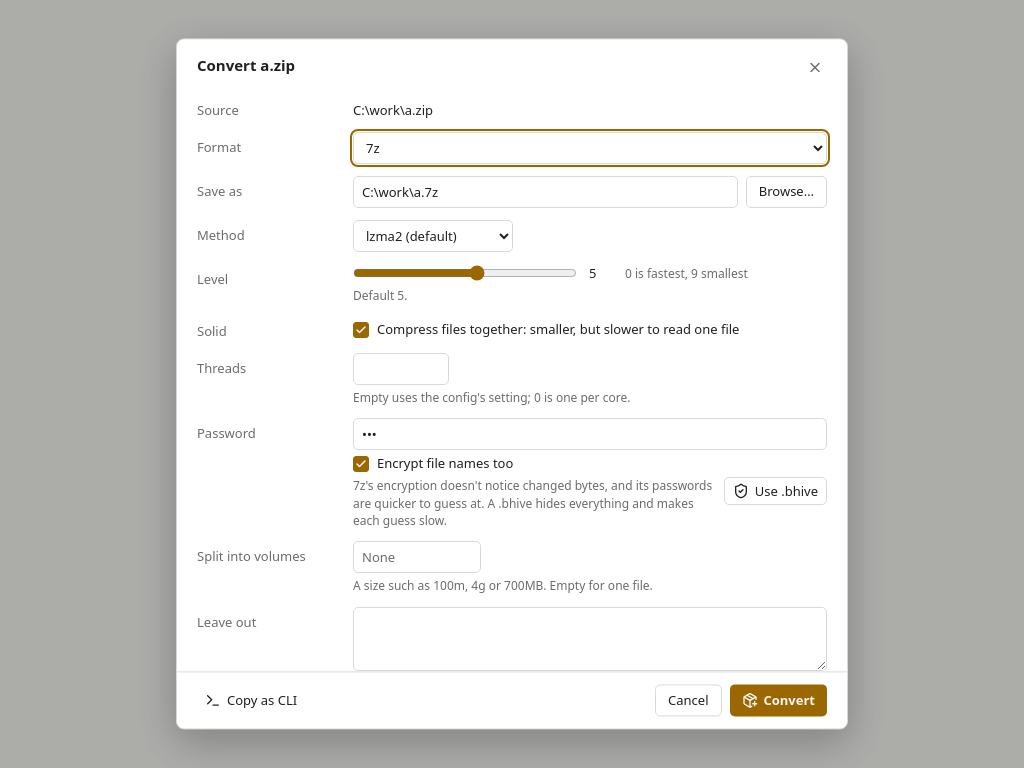
the create dialog's Protection section (docs/M14.md §8) › converts into an encrypted .bhive with `new_password` and shows its recovery key
Select "bhive" in the dropdown labelled "Format" at (590, 148), box [353,132,827,164]
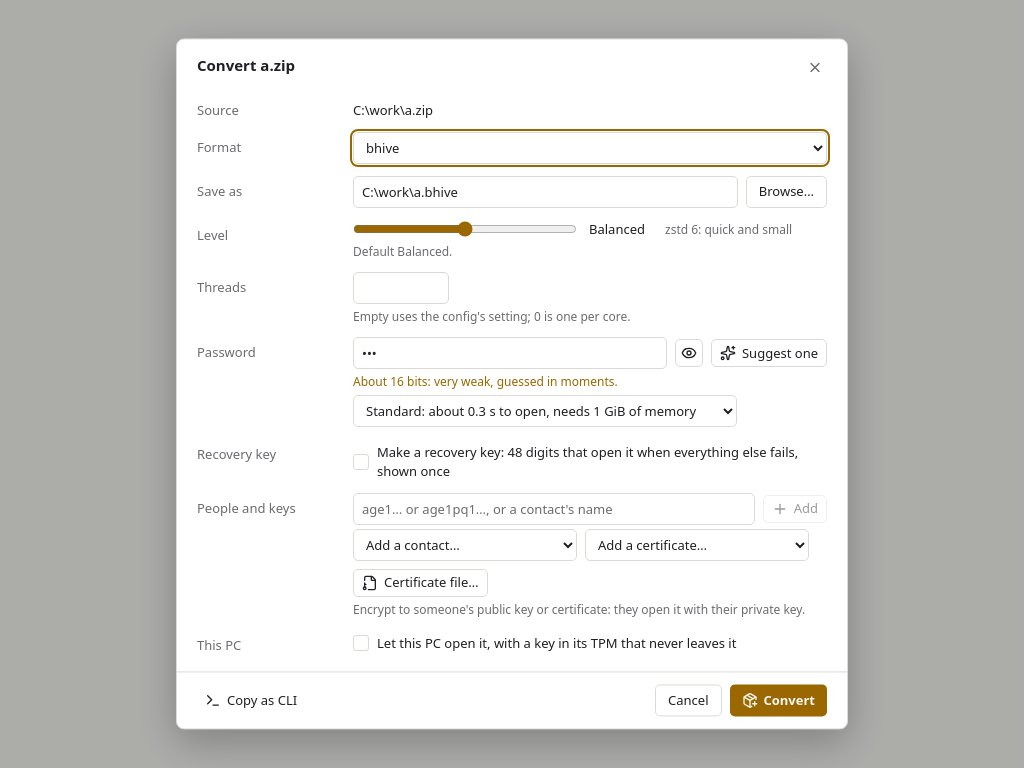
Clear the password field labelled "Password" at (510, 354), box [353,338,667,370]
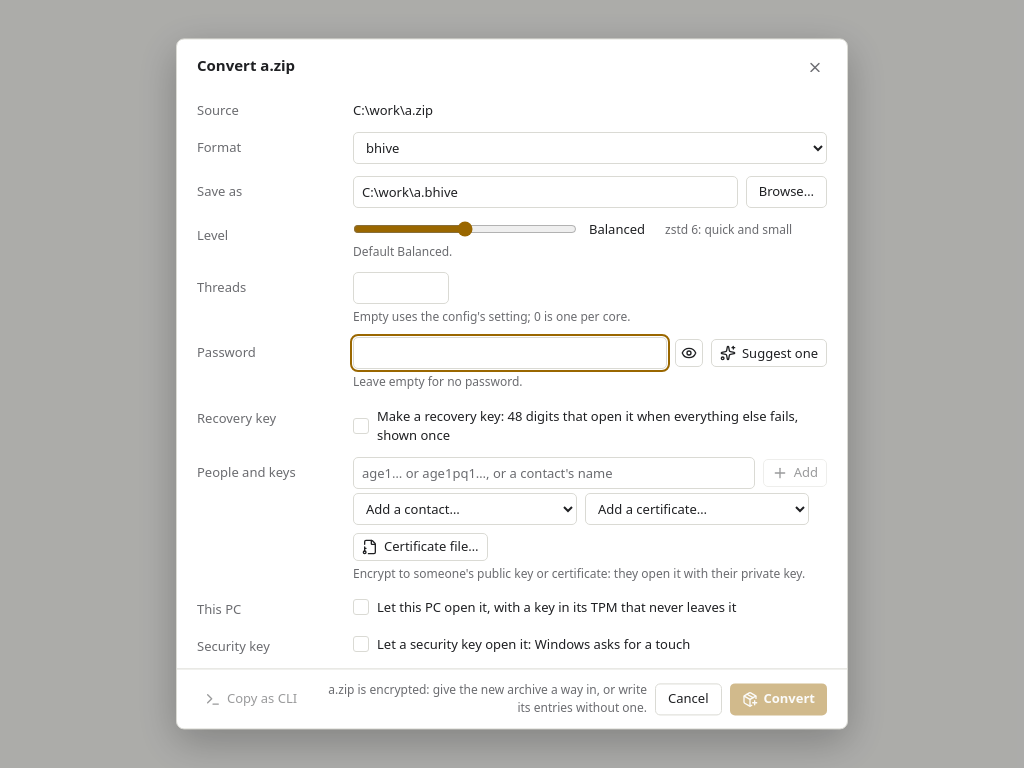
Expected: the button "Convert" is disabled, [730,683,827,715]
Click the text "Make a recovery key" at (602, 426), box [377,407,827,445]
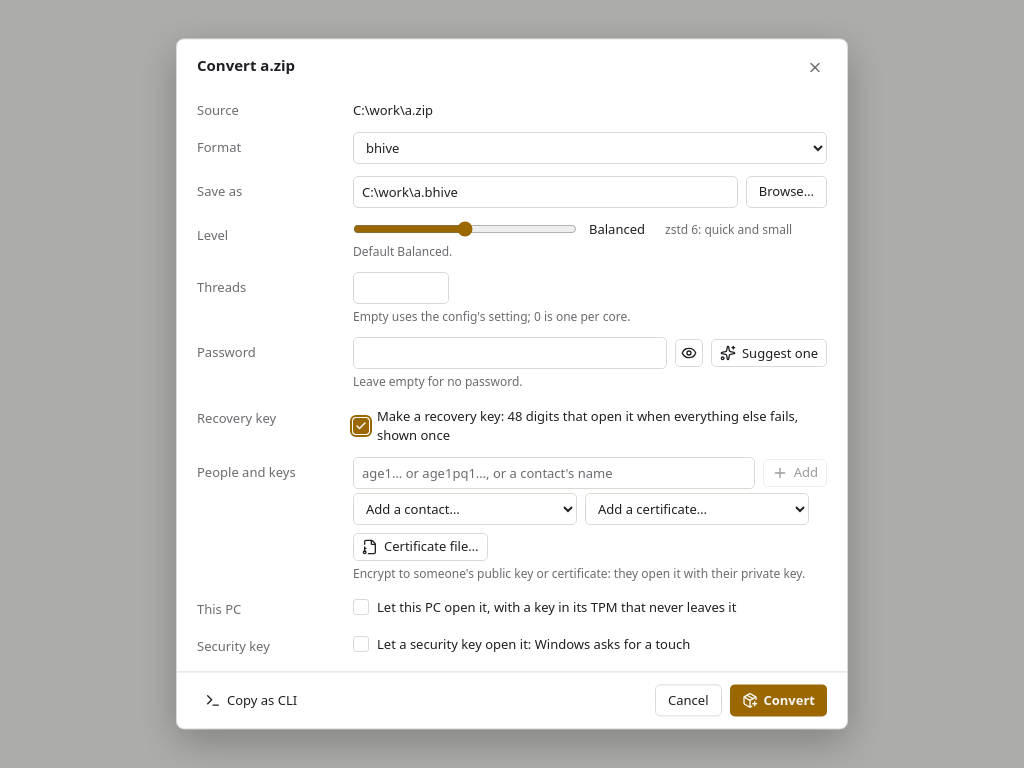
Expected: the button "Convert" is enabled, [730,685,827,717]
Type "new one" into the password field labelled "Password" at (510, 354), box [353,338,667,370]
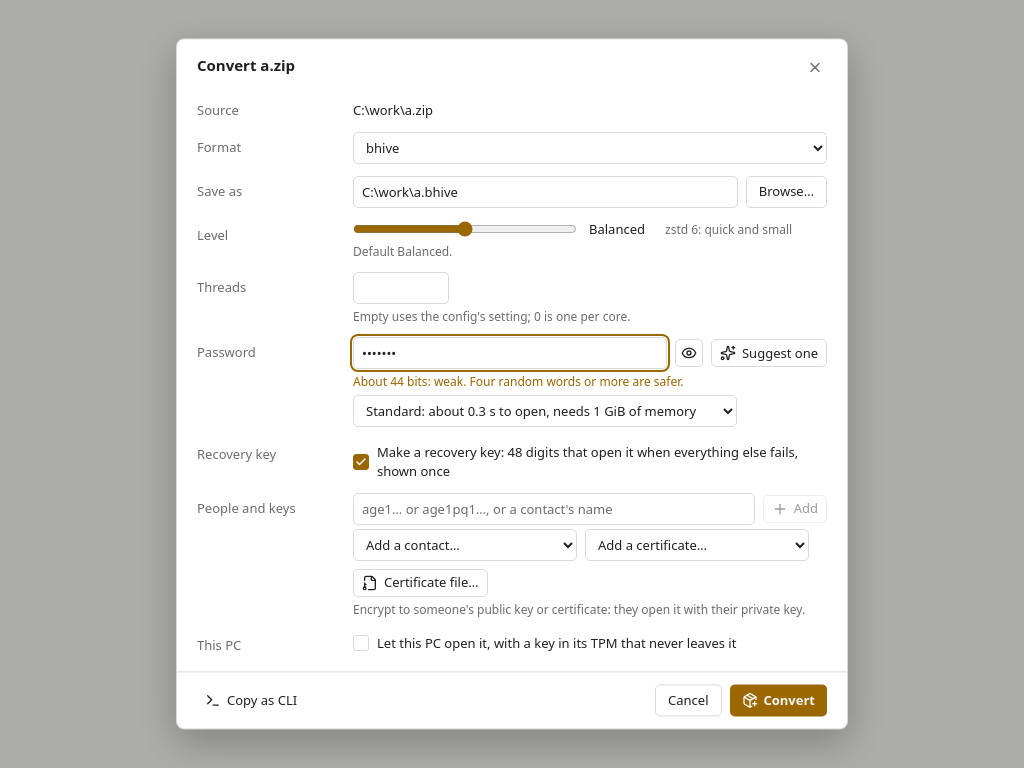
Click the button "Convert" at (778, 701), box [730,685,827,717]
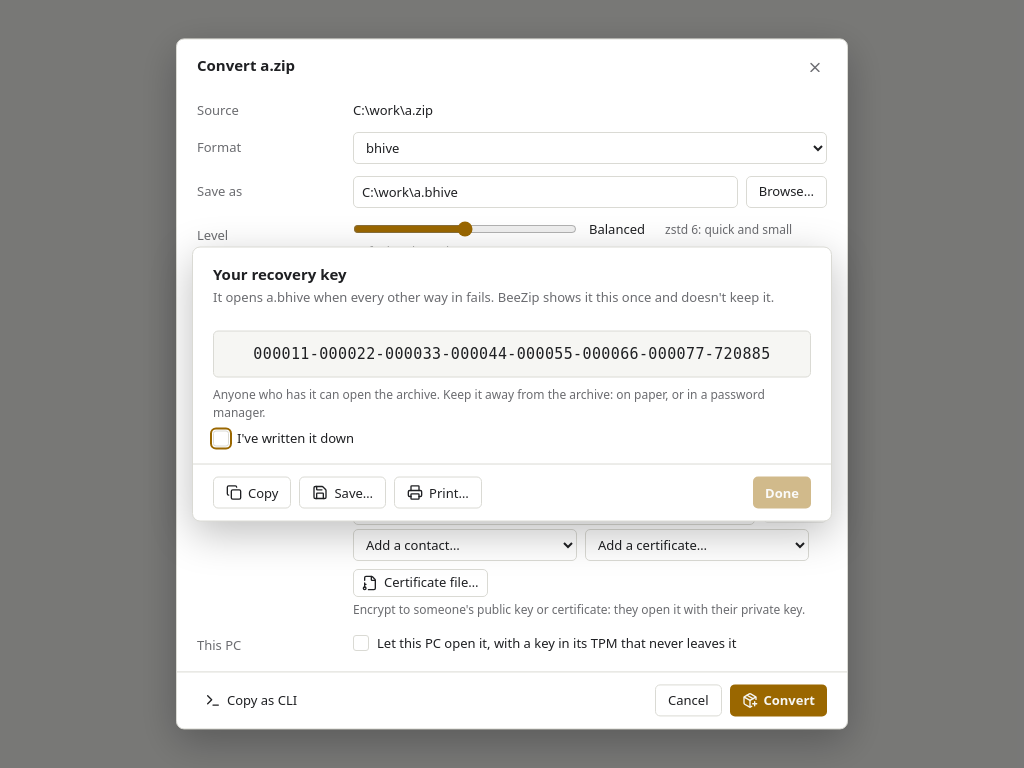
Expected: the text with test id "recovery-key" reads "000011-000022-000033-000044-000055-000066-000077-720885", [253,344,771,362]
